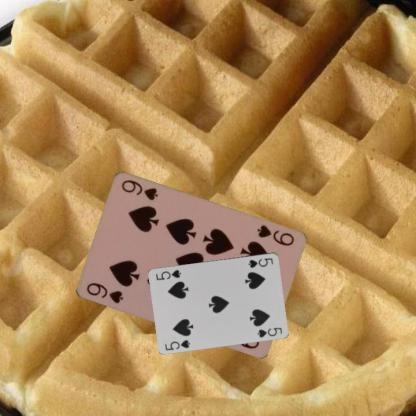5s: (162, 337, 192, 351), (246, 255, 275, 269)
9s: (83, 280, 124, 305), (254, 223, 295, 247)
